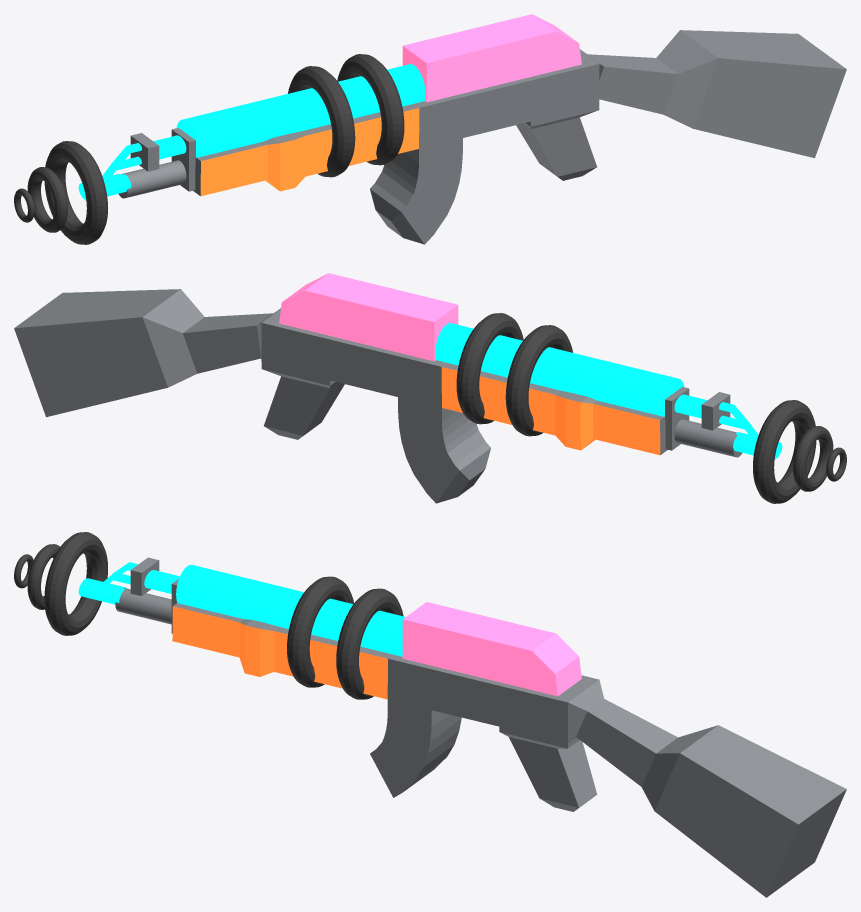
The picture shows the model from 3 angles, top to bottom: view 1: azimuth 30°, elevation 25°; view 2: azimuth 150°, elevation 25°; view 3: azimuth 330°, elevation 25°; orthographic projection.
Parts seen in each view (by area): view 1: Plane; view 2: Plane; view 3: Plane.
Part boxes in pixels (<box>): Plane: <box>14,14,846,244</box>; Plane: <box>14,273,846,503</box>; Plane: <box>14,532,846,897</box>.
Bounding box in the file's own units: 563 × 124 × 69.3.
